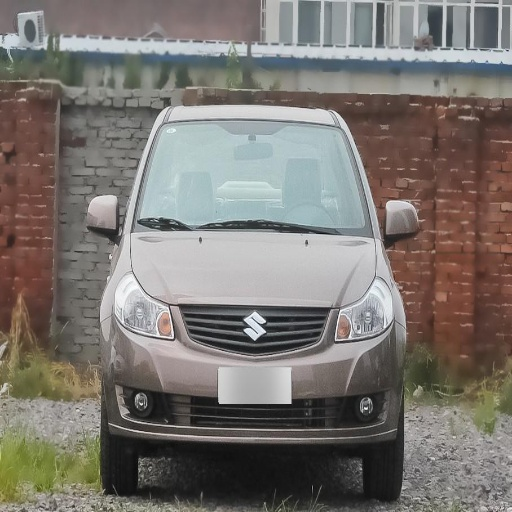front_bumper: (107, 304, 399, 448)
front_right_light: (115, 278, 176, 340)
hood: (129, 230, 376, 306)
left_mirror: (383, 201, 421, 244)
